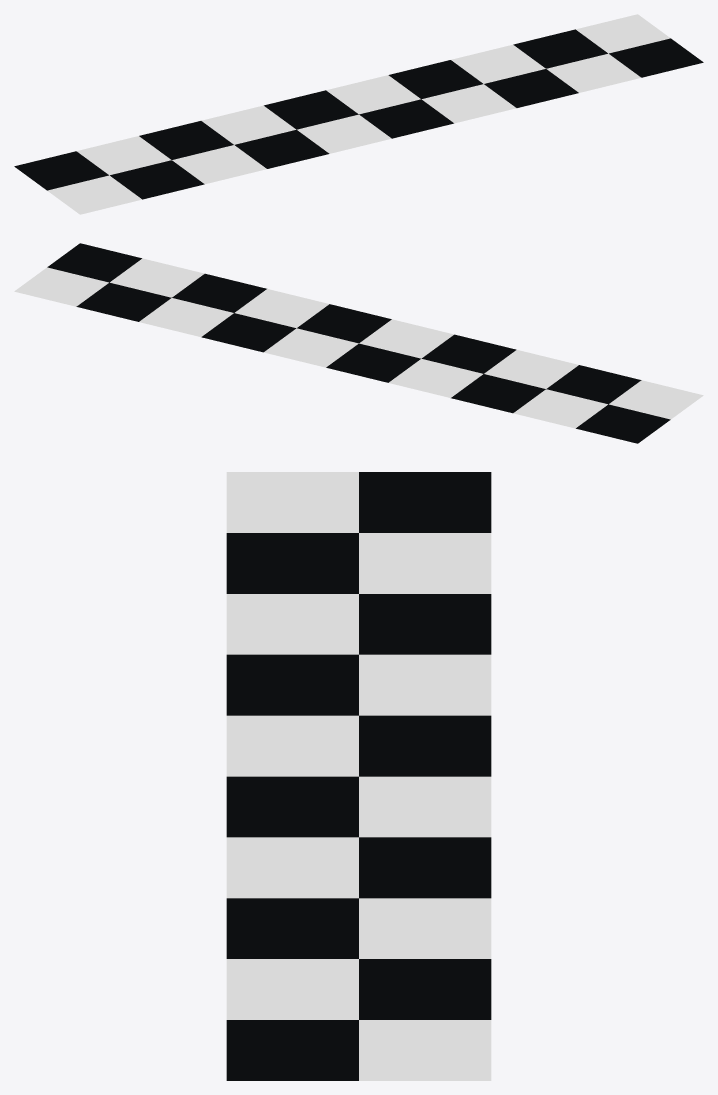
File: meta.fbx
The picture shows the model from 3 angles, top to bottom: view 1: azimuth 30°, elevation 25°; view 2: azimuth 150°, elevation 25°; view 3: azimuth 270°, elevation 25°; orthographic projection. The views are drawn at different scales.
Visible parts, largest first — view 1: pPlane3; view 2: pPlane3; view 3: pPlane3.
Part boxes in pixels (bbox=[...]): pPlane3: bbox=[14, 14, 703, 214]; pPlane3: bbox=[14, 243, 703, 443]; pPlane3: bbox=[226, 472, 491, 1080].
Bounding box in the file's own units: 14.22 × 0 × 2.61.
